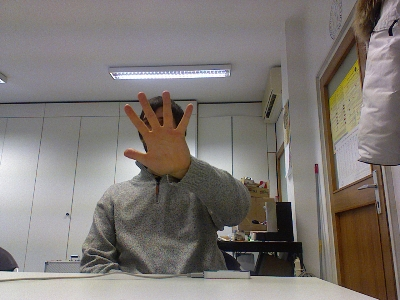布: (121, 90, 193, 177)
